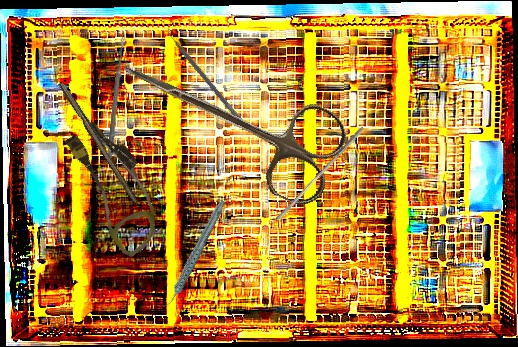Cannula: (51, 114, 180, 260)
Handpiece: (142, 198, 245, 310)
Iris Scissors: (100, 26, 355, 213)
Pusher: (275, 123, 365, 224)
Scalpel Handle: (56, 79, 142, 205)
Spatula Surgical: (162, 25, 250, 127)
Surgical Spoon: (106, 33, 127, 159)
